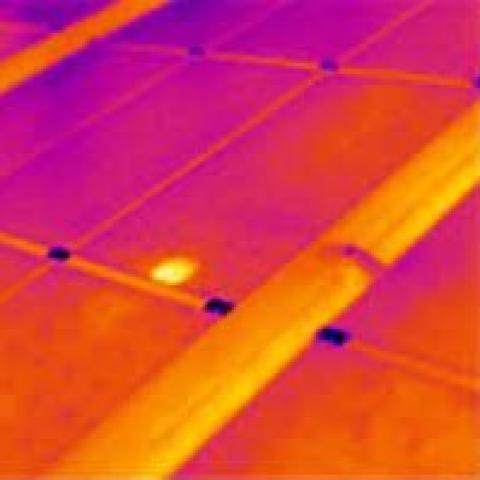fault: (150, 252, 196, 288)
